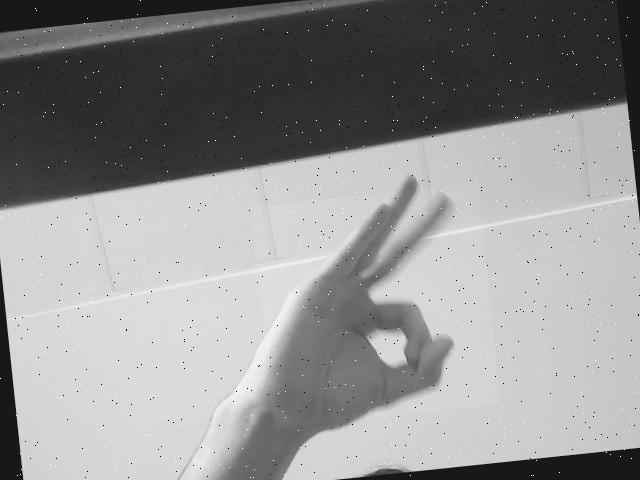OK: (251, 183, 501, 428)
